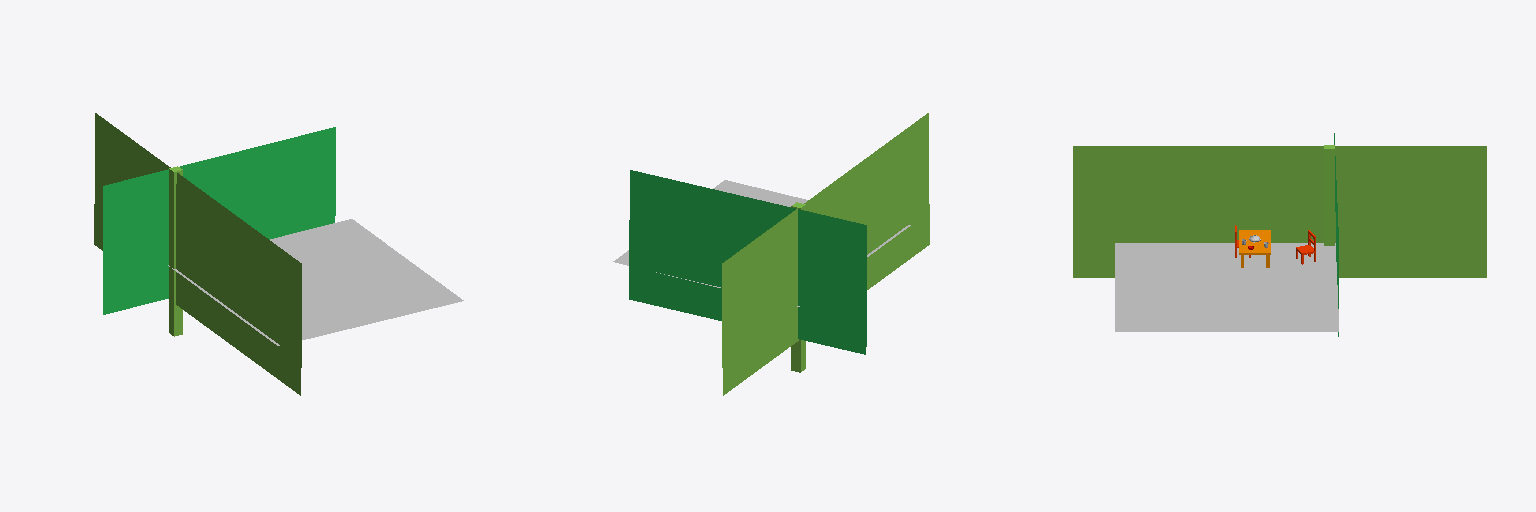
Rendered from lab1.obj.
3 renders of one model, left to right at view 1: azimuth 30°, elevation 25°; view 2: azimuth 150°, elevation 25°; view 3: azimuth 270°, elevation 25°, orthographic.
Visible parts, largest first — view 1: Plane.001, Plane.002, Cube.003; view 2: Plane.002, Plane.001; view 3: Plane.001, Cube.003, Cube.002.
Boxes of the visible parts, x1=… form: Plane.001: x1=94, y1=113, x2=301, y2=395; Plane.002: x1=103, y1=127, x2=335, y2=314; Cube.003: x1=169, y1=166, x2=182, y2=336; Plane.002: x1=629, y1=170, x2=866, y2=354; Plane.001: x1=722, y1=113, x2=929, y2=395; Plane.001: x1=1073, y1=146, x2=1486, y2=277; Cube.003: x1=1324, y1=145, x2=1334, y2=245; Cube.002: x1=1239, y1=230, x2=1270, y2=267.
Size of the model in its own units: 54.66 by 34.17 by 77.97.